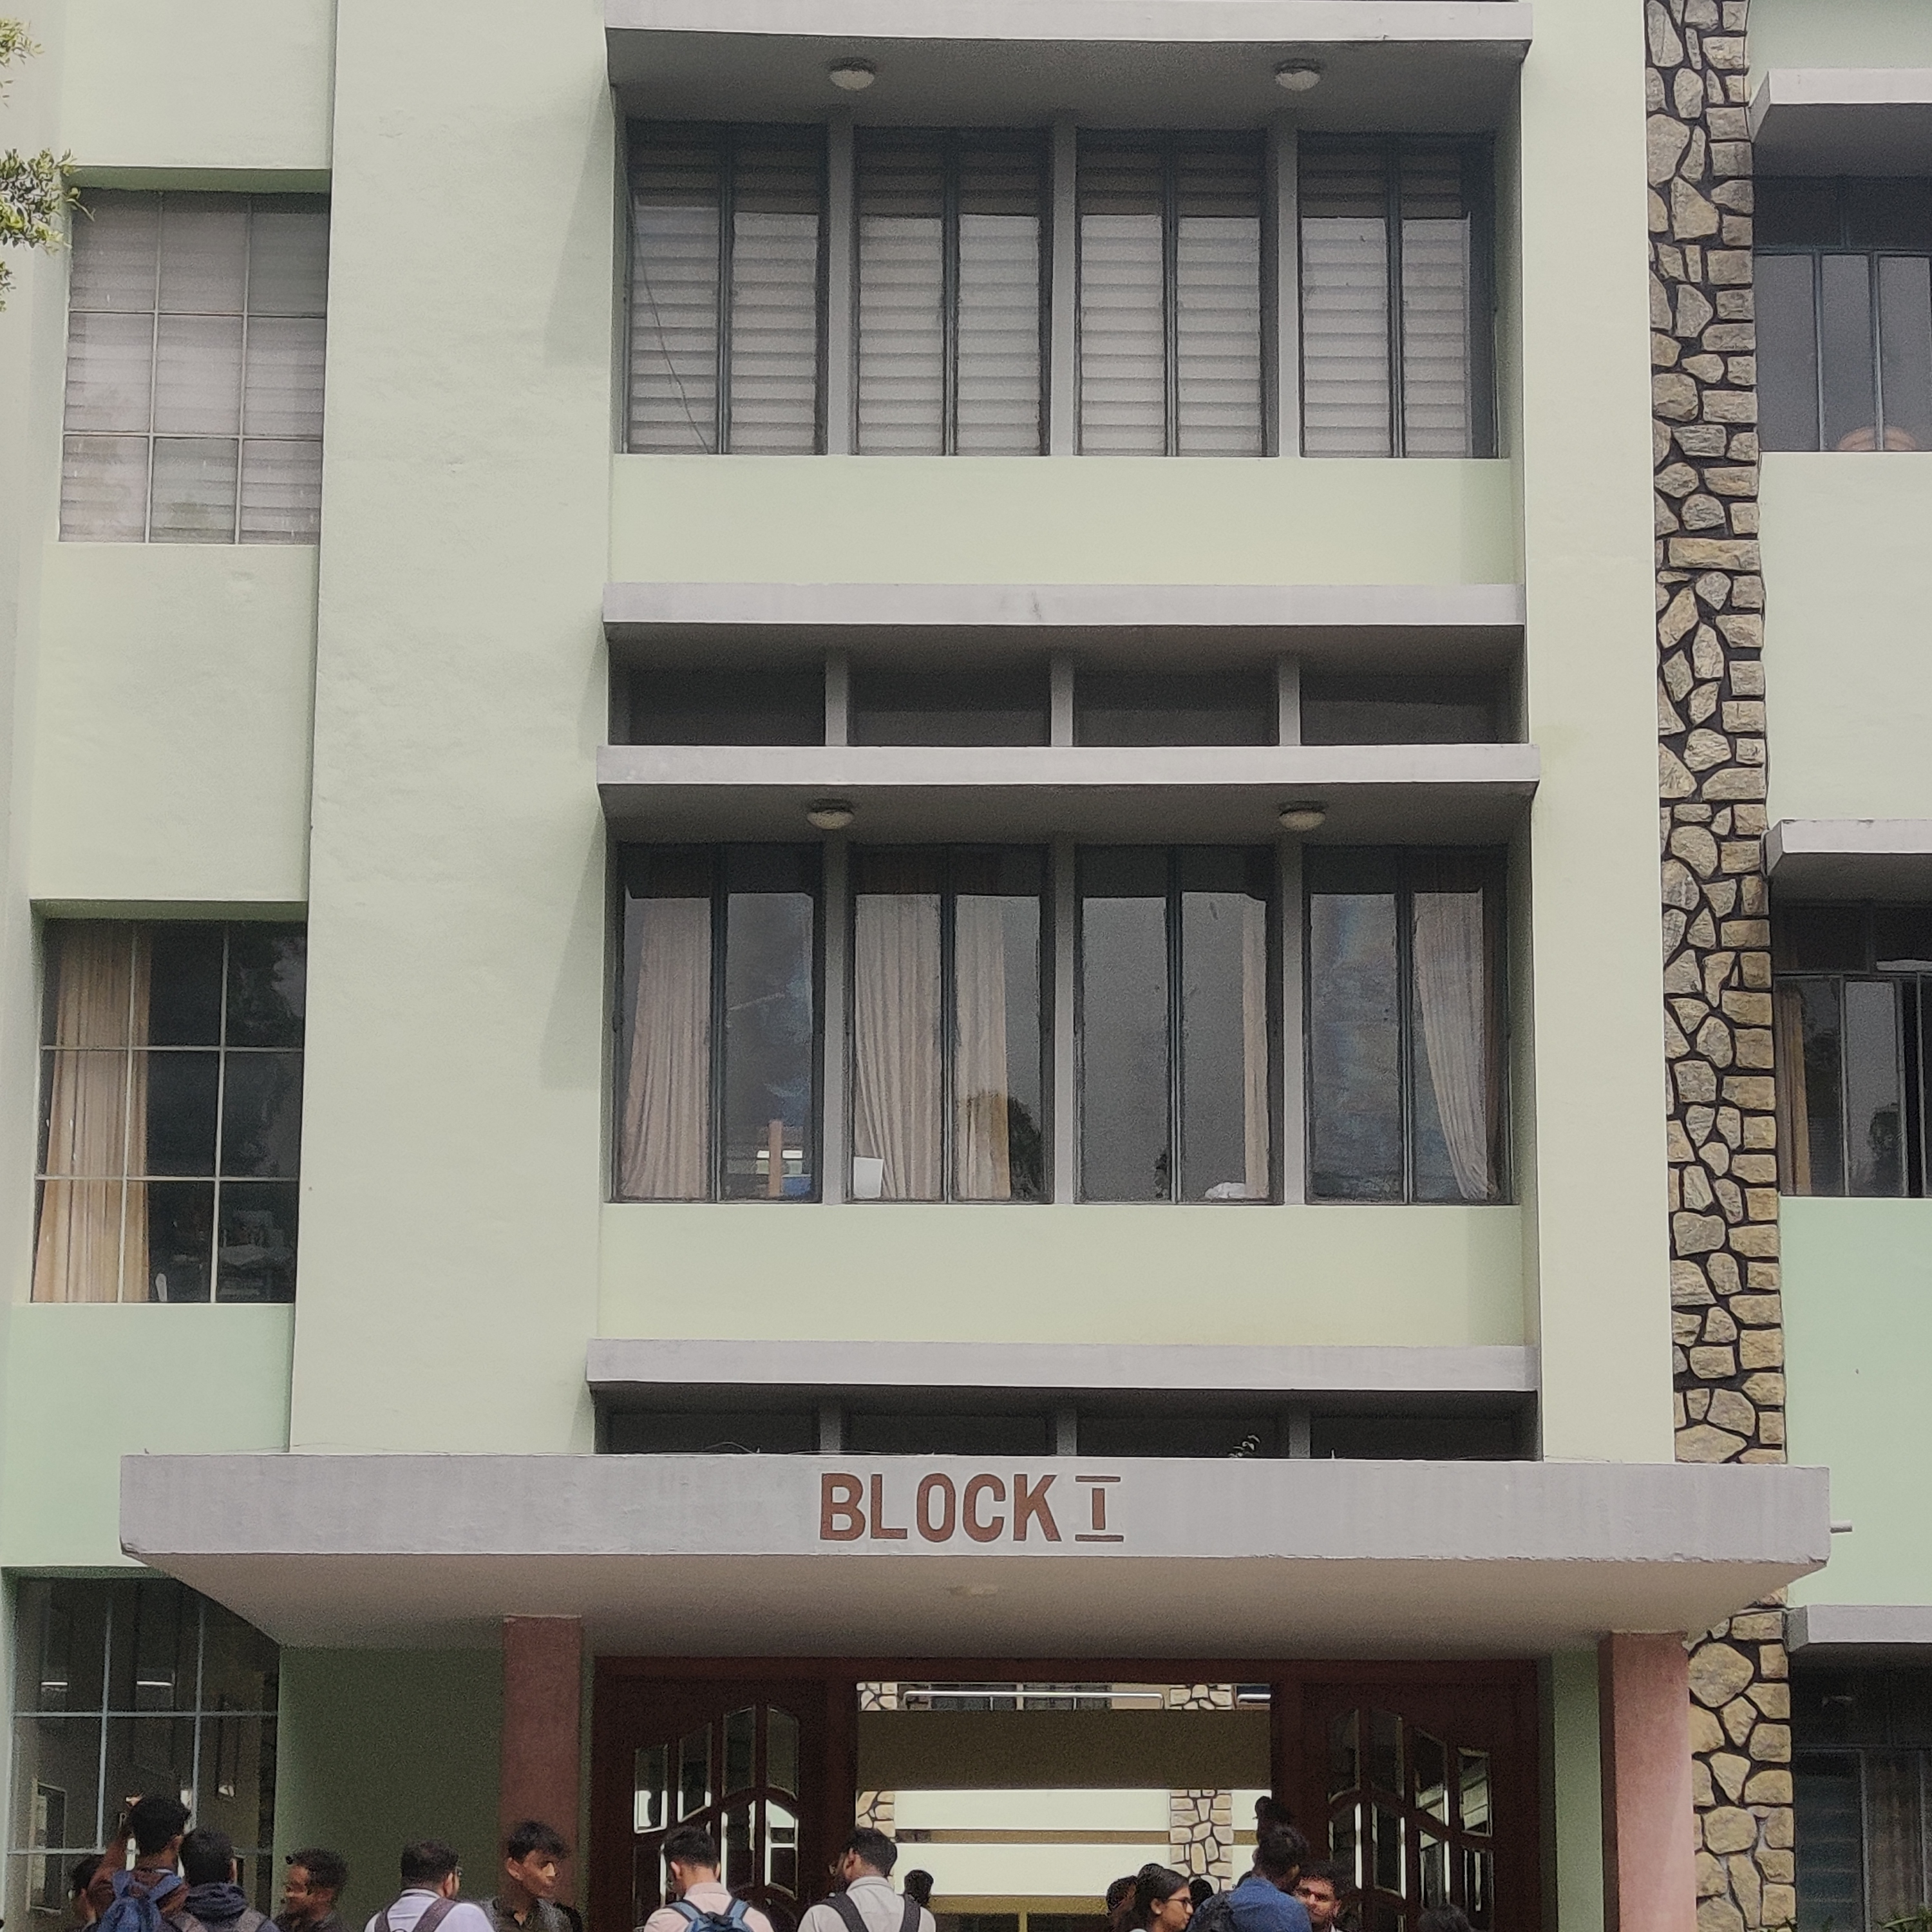Block 1: (16, 23, 1932, 1875)
